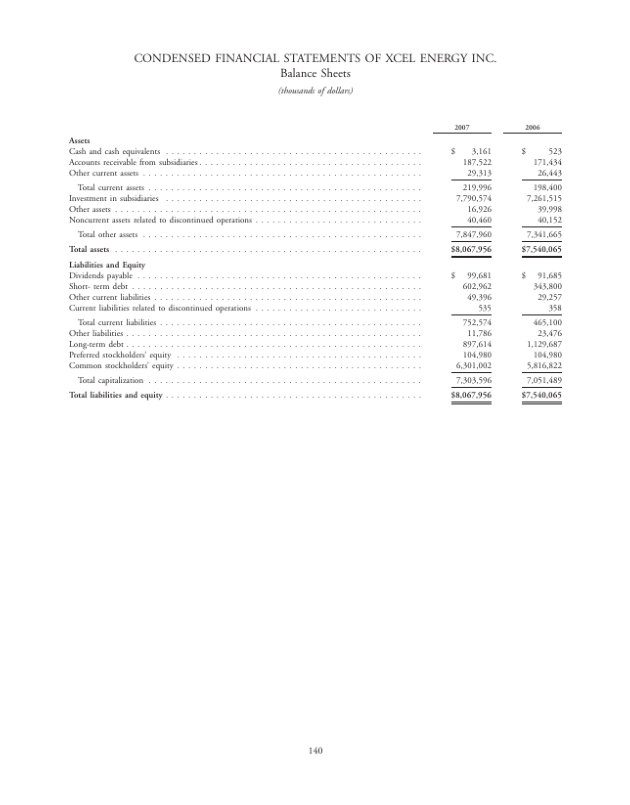table: (432, 122, 491, 410), (506, 123, 565, 407)
